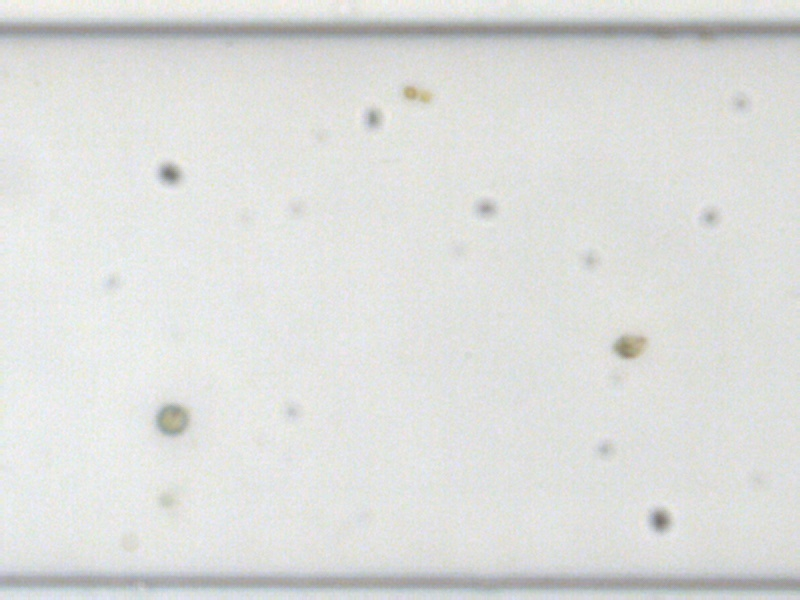Chlorella: (157, 491, 173, 507), (402, 83, 418, 99), (418, 88, 432, 103)
Dunaliella salina: (610, 331, 647, 357)
Porphyridium: (153, 403, 188, 436)
